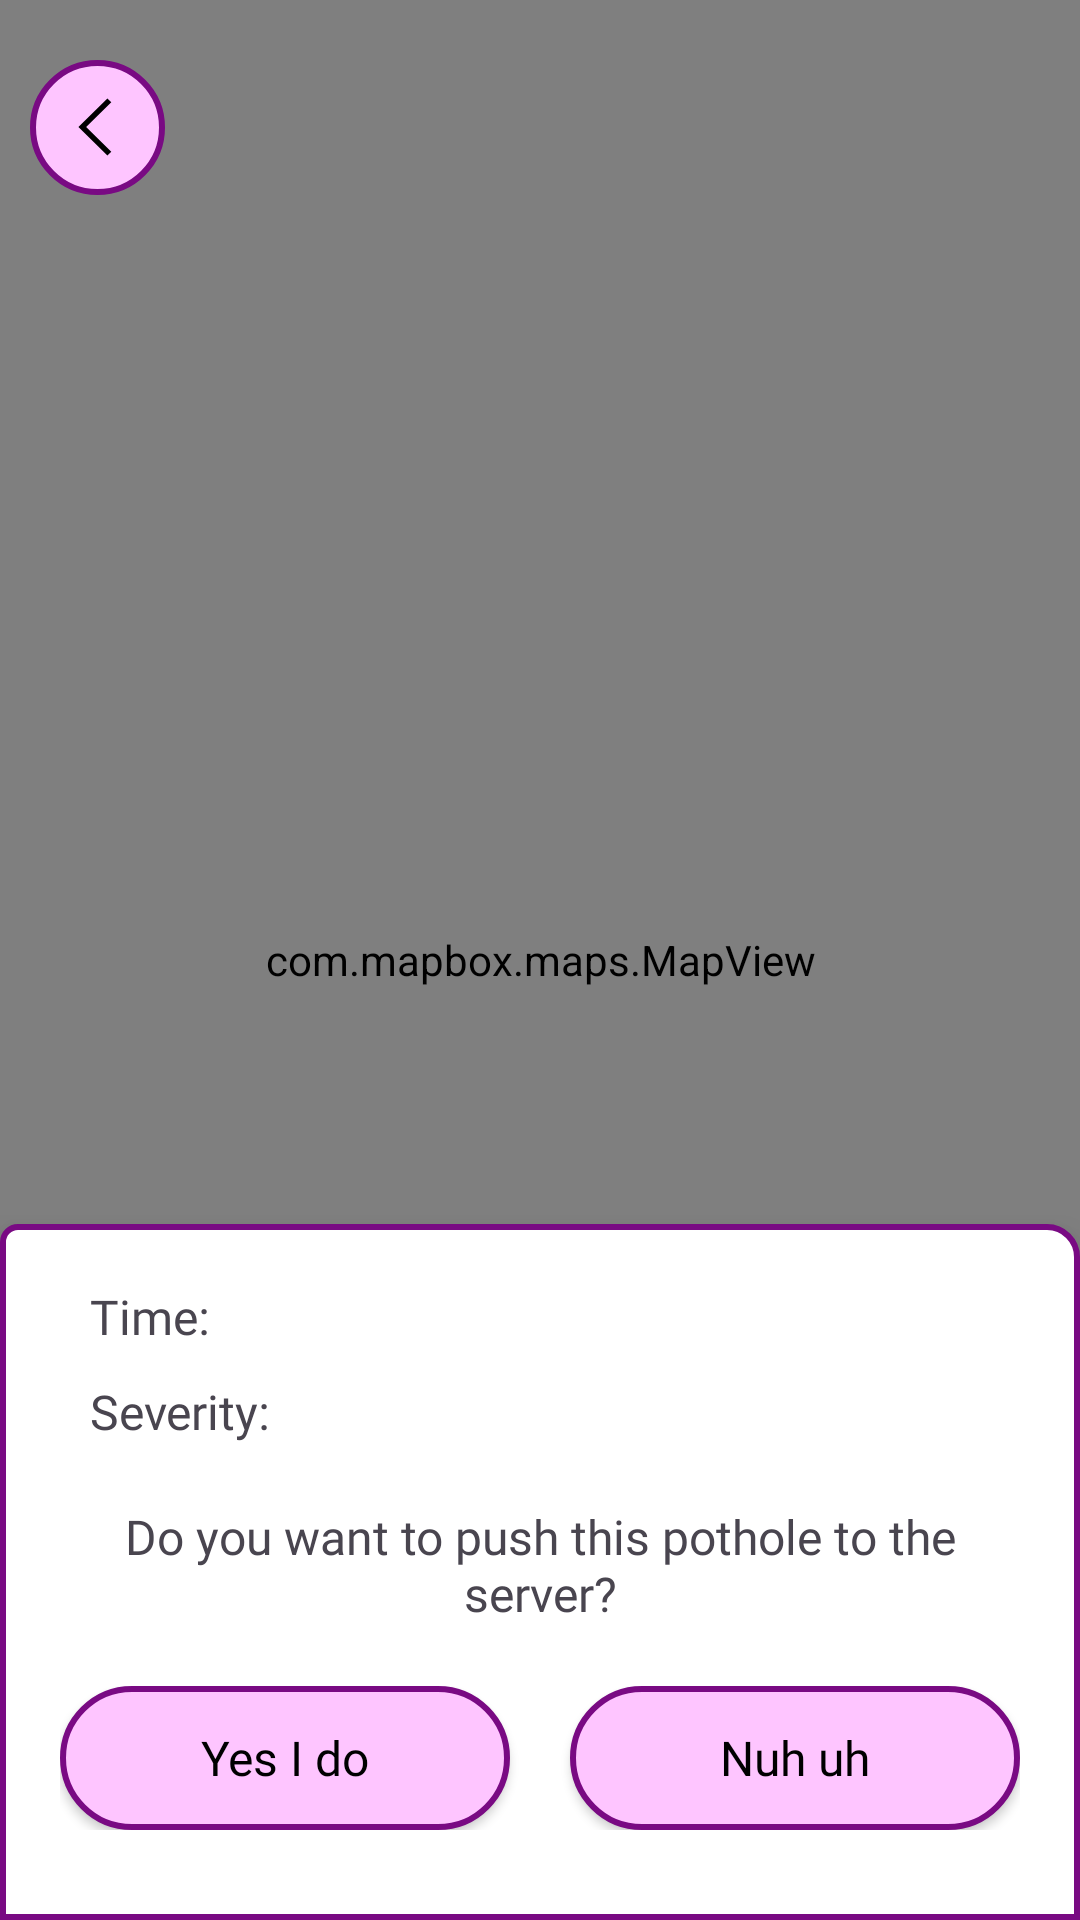

Point at icon controls on the screen. Image size 1080w x 1920h, points as (x,y).
back: (94,127)
